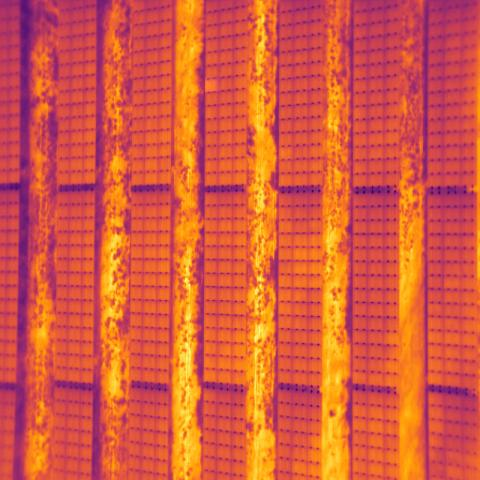fault: (206, 78, 220, 92)
